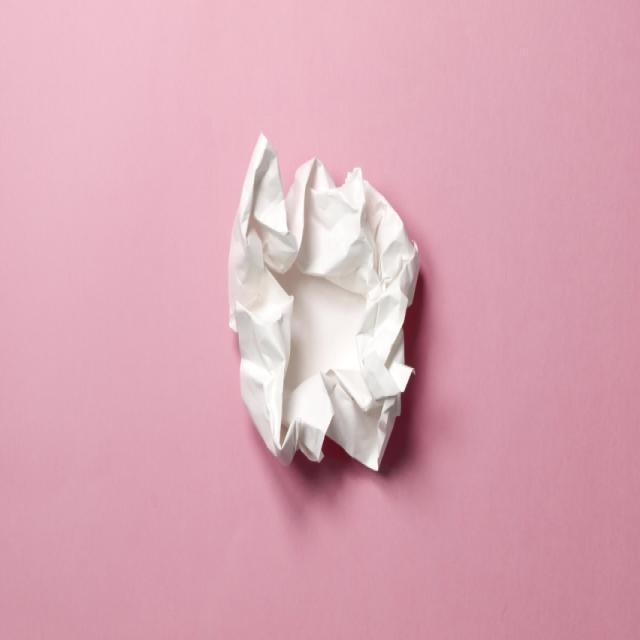Paper: (229, 136, 422, 473)
